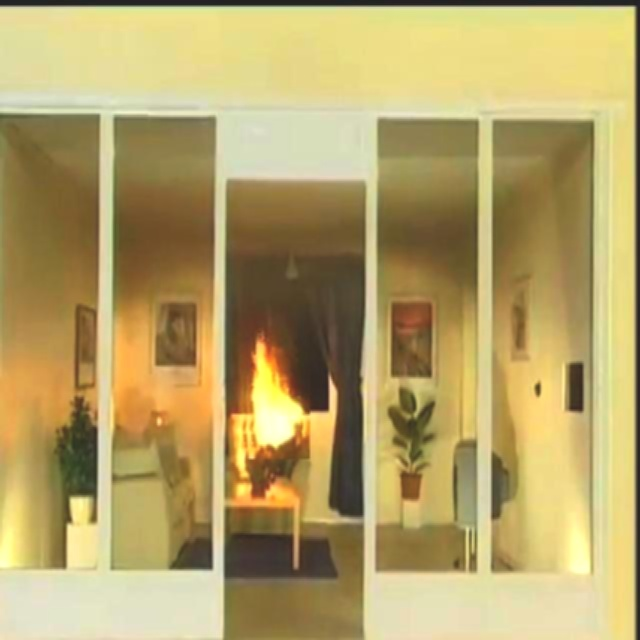fire: (233, 329, 313, 452)
